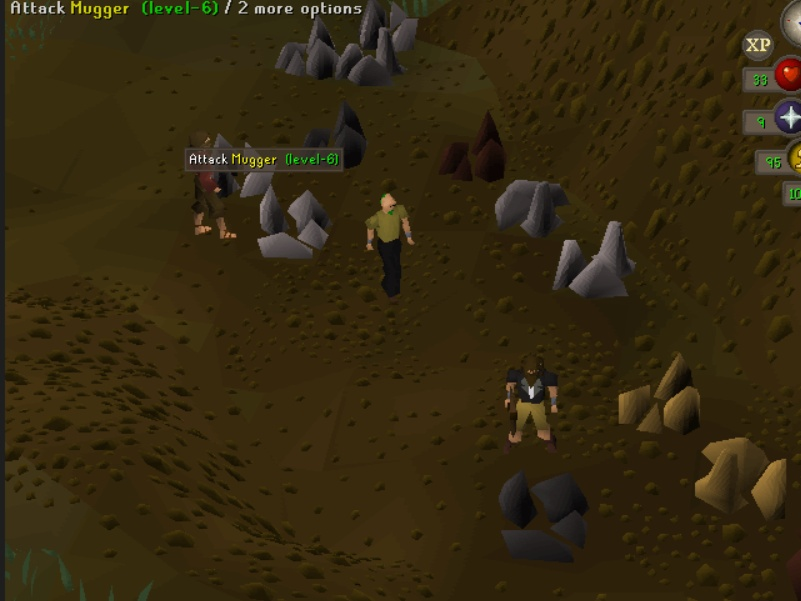clay: (684, 429, 798, 526), (615, 350, 711, 436)
iron: (438, 108, 511, 188)
silver: (553, 218, 643, 300), (258, 182, 331, 262), (202, 127, 277, 199)
tin: (267, 11, 342, 83), (492, 173, 572, 238), (338, 27, 410, 87), (348, 1, 421, 50)
